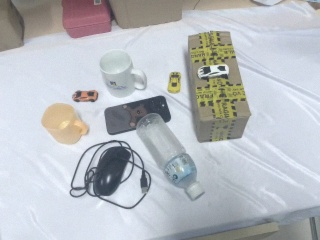bottle: (136, 112, 206, 201)
box: (187, 29, 253, 143), (104, 1, 183, 31), (1, 1, 24, 55)
cup: (99, 48, 149, 97), (41, 101, 90, 145)
mouse: (91, 146, 131, 197)
phone: (103, 94, 173, 135)
toy_car: (198, 64, 230, 81), (72, 89, 99, 103), (168, 71, 182, 94)
